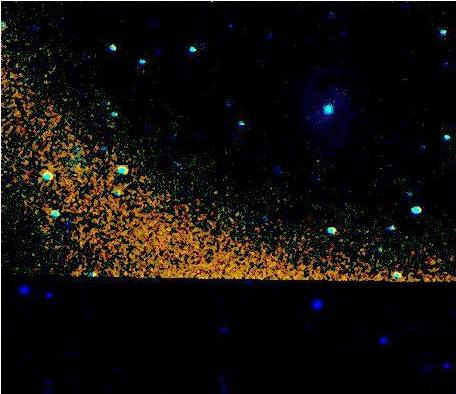star: (392, 223, 422, 253)
